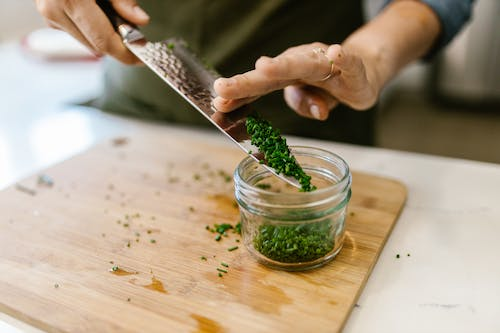knife: (94, 0, 318, 192)
